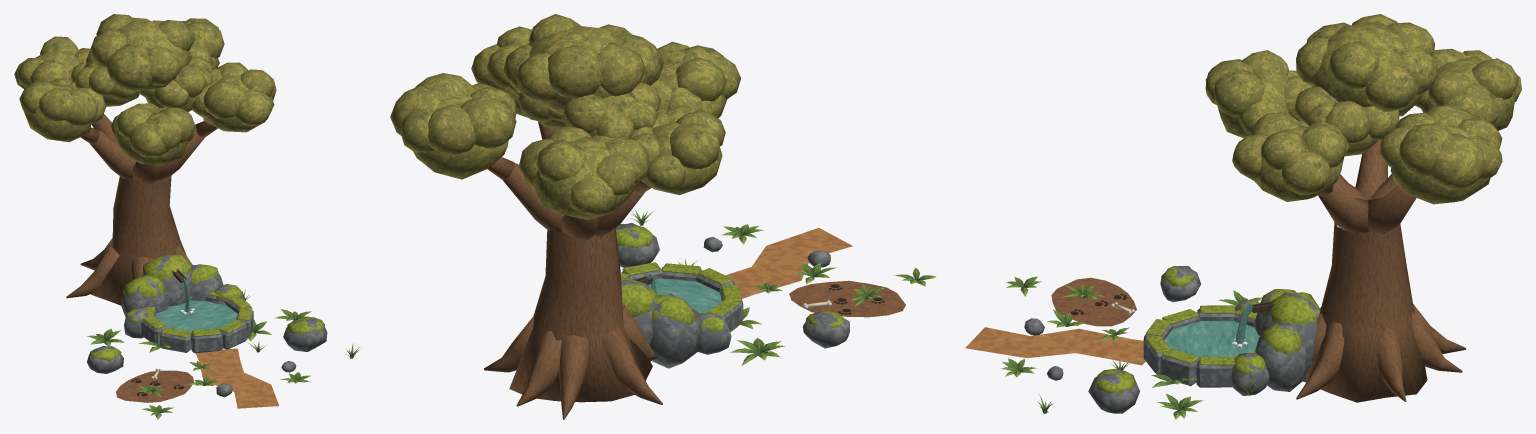
Rendered from ev01_spring.glb.
3 renders of one model, left to right at view 1: azimuth 30°, elevation 25°; view 2: azimuth 150°, elevation 25°; view 3: azimuth 270°, elevation 25°, orthographic. The views are drawn at different scales.
Parts seen in each view (by area): view 1: ev01_spring_tree_crown, ev01_spring_tree_trunk, ev01_spring_spring_stones, ev01_spring_ground_details, ev01_spring_spring_water, ev01_spring_plants; view 2: ev01_spring_tree_crown, ev01_spring_tree_trunk, ev01_spring_ground_details, ev01_spring_spring_stones, ev01_spring_plants, ev01_spring_spring_water; view 3: ev01_spring_tree_crown, ev01_spring_tree_trunk, ev01_spring_spring_stones, ev01_spring_ground_details, ev01_spring_spring_water, ev01_spring_plants.
Boxes of the visible parts, x1,y1,x2,y2 form: ev01_spring_tree_crown: (14,14,276,166); ev01_spring_tree_trunk: (66,114,217,305); ev01_spring_spring_stones: (121,254,253,353); ev01_spring_ground_details: (87,317,327,408); ev01_spring_spring_water: (155,278,237,332); ev01_spring_plants: (87,289,360,419); ev01_spring_tree_crown: (390,14,740,220); ev01_spring_tree_trunk: (484,121,662,419); ev01_spring_ground_details: (616,223,905,348); ev01_spring_spring_stones: (620,262,743,368); ev01_spring_plants: (630,208,936,366); ev01_spring_spring_water: (647,274,721,313); ev01_spring_tree_crown: (1205,14,1521,204); ev01_spring_tree_trunk: (1296,140,1466,402); ev01_spring_spring_stones: (1143,289,1320,395); ev01_spring_ground_details: (965,266,1200,413); ev01_spring_spring_water: (1164,304,1260,359); ev01_spring_plants: (1001,276,1262,419).
Size of what is drawn, in the model's own units: 6.69 by 7.23 by 10.35.
Materials: 15 (15 with a texture image).
